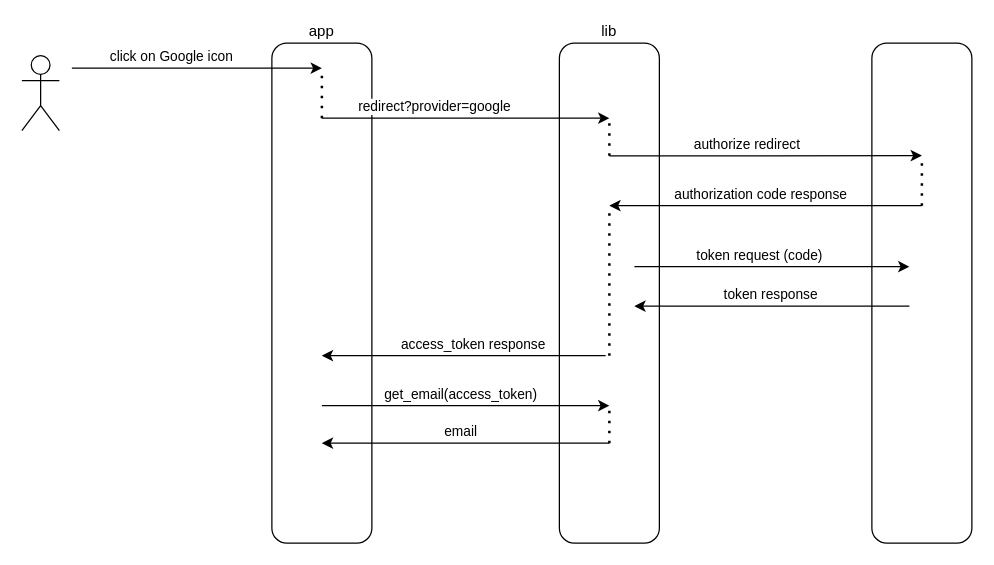
Image size: 994x565. Some labels were removed from this diagram. Here are the shapes that lost their labels. From the top down, the box of each, then its label:
(21, 54, 59, 131): User
(871, 42, 972, 543): oauth provider
